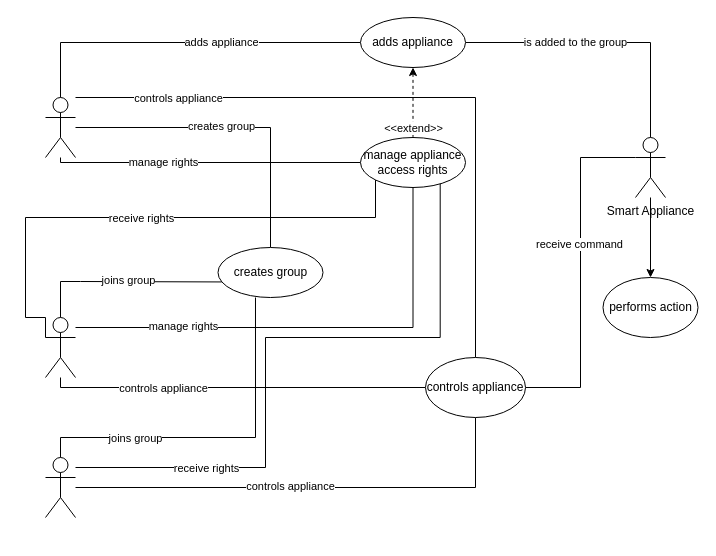
Image size: 716x556. Some labels were removed from this diagram. Here are the shapes that lost their labels. From the top down, the centre of each, then its label:
At (x=60, y=127): "Admin".
At (x=60, y=347): "Registered User".
At (x=60, y=487): "Visitor".
